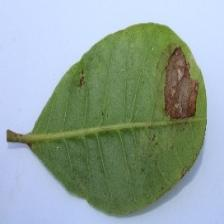leaf miner: (157, 39, 202, 125)
